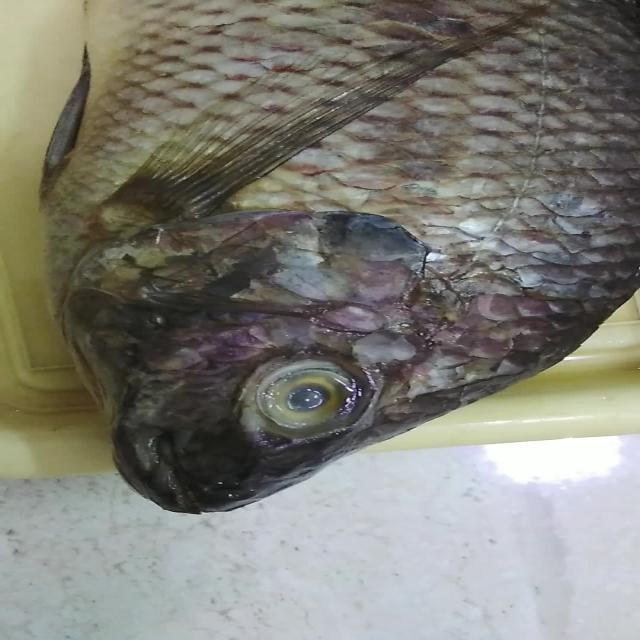Non-Fresh: (124, 22, 590, 341), (247, 352, 369, 438)
